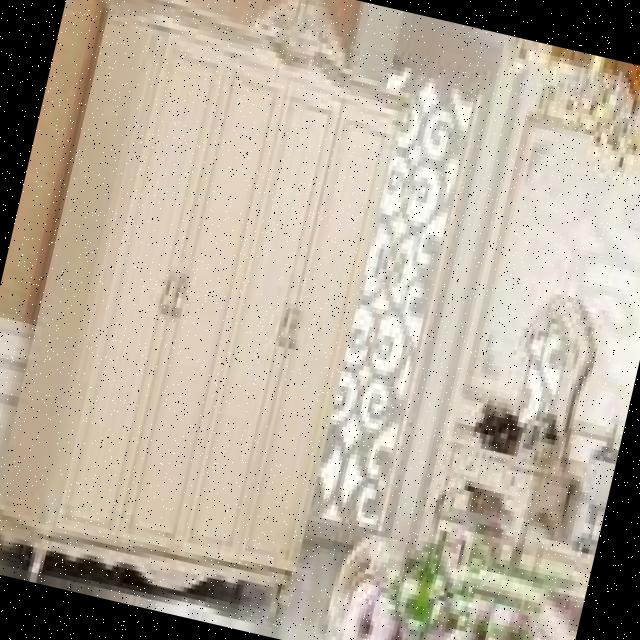Closet: (0, 0, 429, 638)
